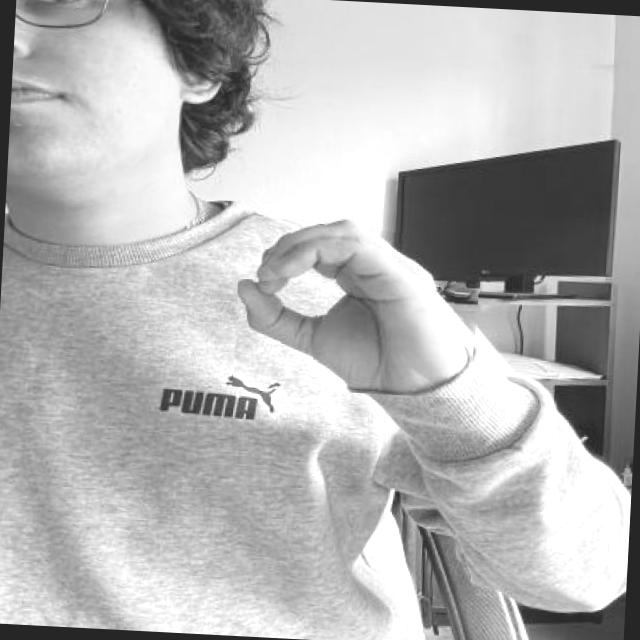O: (232, 206, 486, 400)
